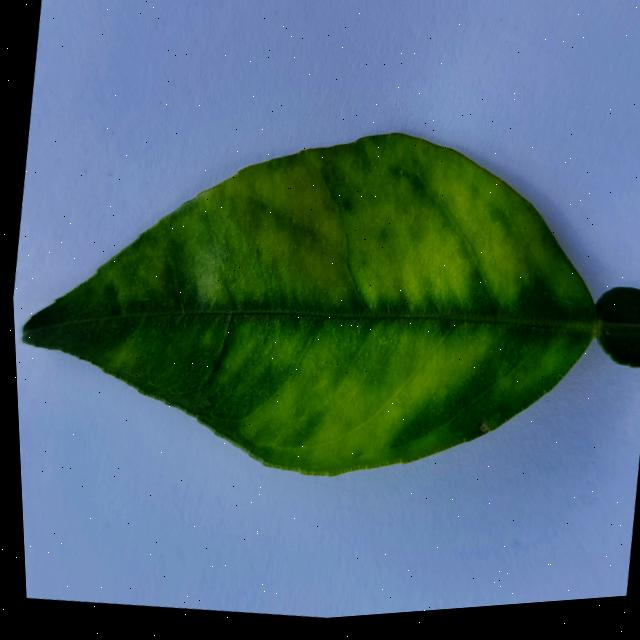greening: (24, 133, 597, 473)
